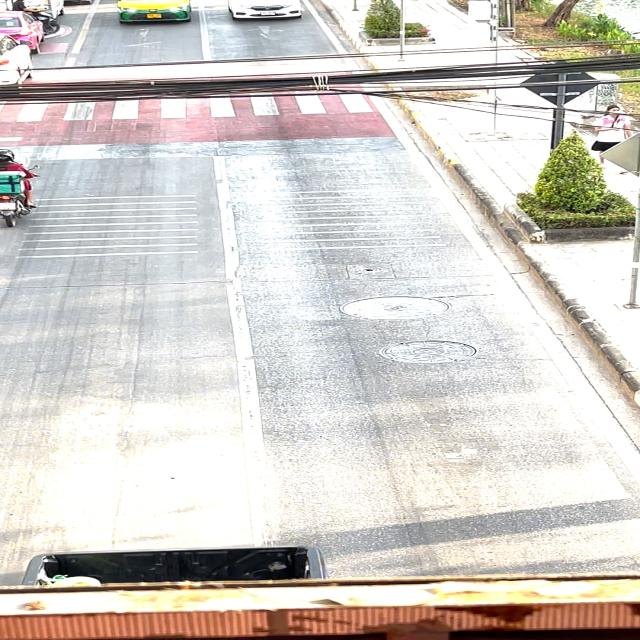car: (103, 0, 199, 30), (210, 0, 323, 25)
